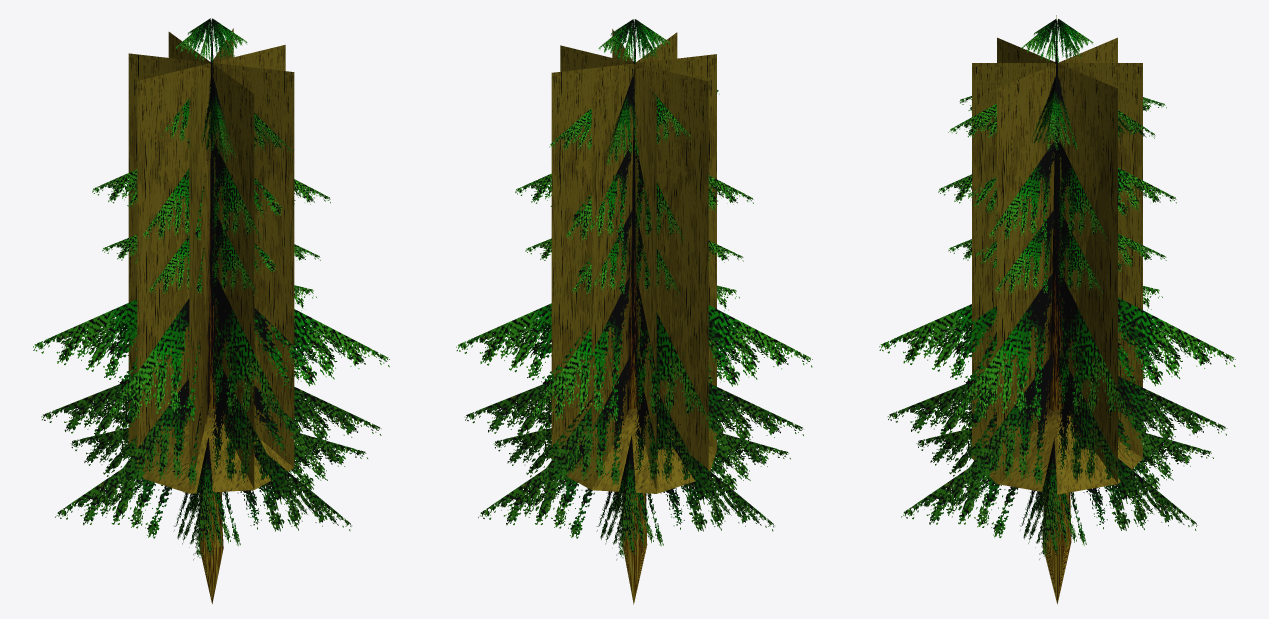
Rendered from fijnspar_2.fbx.
3 views of the same model, side by side, from view 1: azimuth 30°, elevation 25°; view 2: azimuth 150°, elevation 25°; view 3: azimuth 270°, elevation 25° (orthographic).
Parts seen in each view (by area): view 1: fijnspar_2; view 2: fijnspar_2; view 3: fijnspar_2.
Boxes of the visible parts, x1,y1,x2,y2 form: fijnspar_2: (33,18,389,603); fijnspar_2: (456,19,812,604); fijnspar_2: (879,15,1235,604).
Size of the model in its own units: 575 by 988 by 598.
